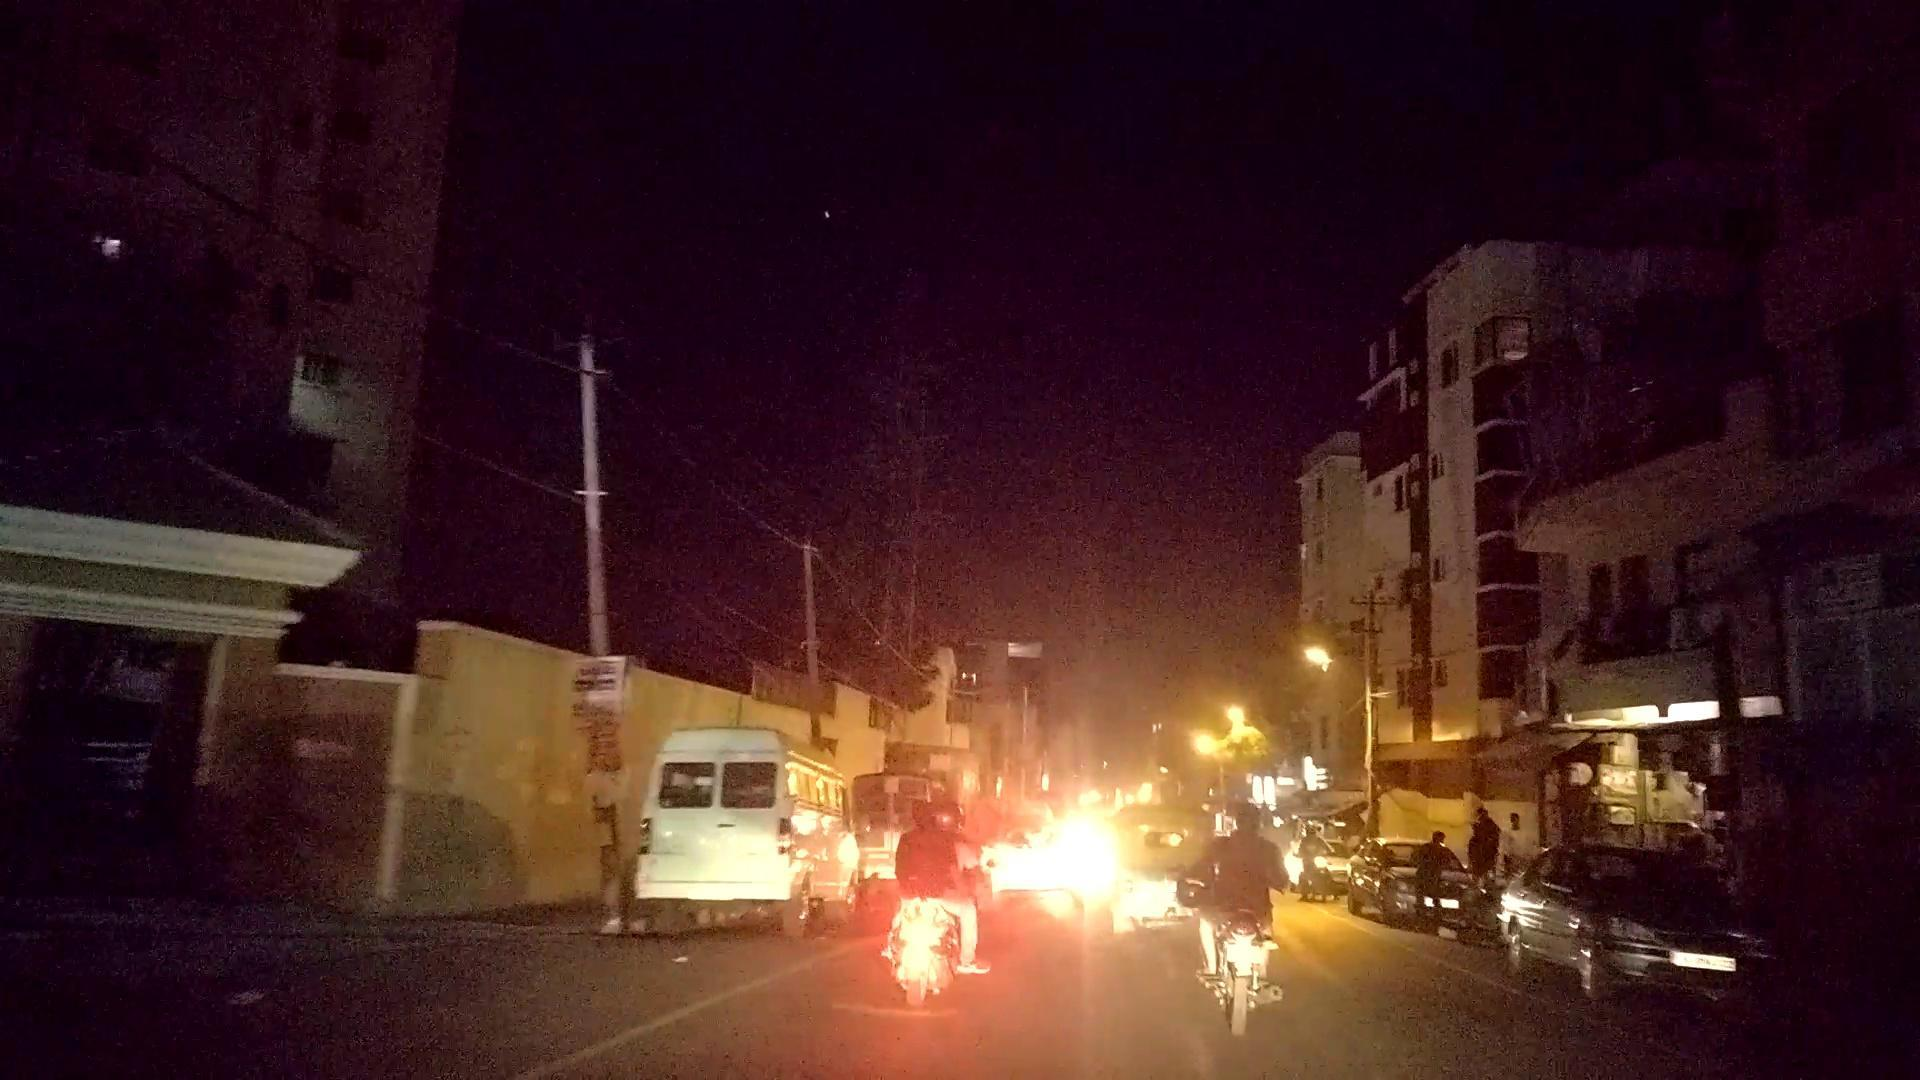on: (1019, 522, 1455, 787)
